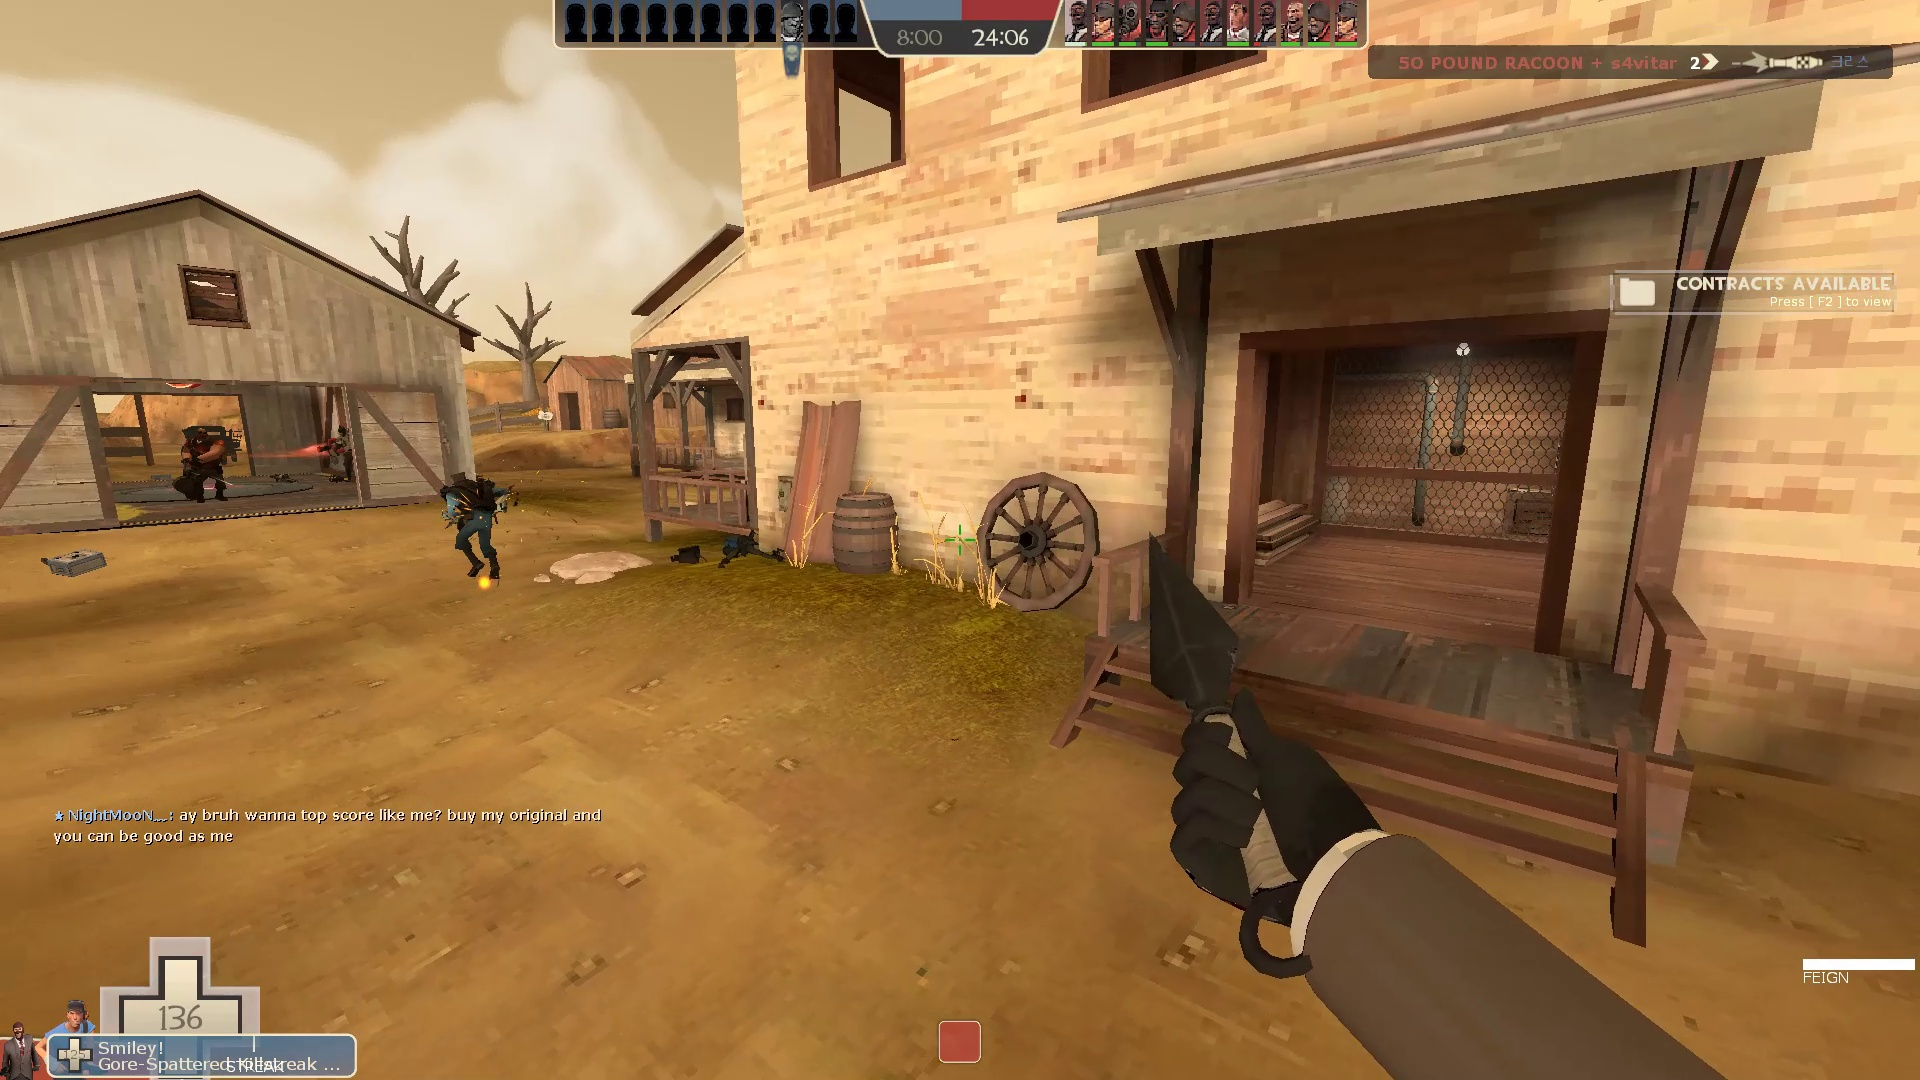blu_demo: (433, 464, 520, 585)
red_heavy: (171, 425, 233, 509)
red_medic: (320, 421, 368, 491)
